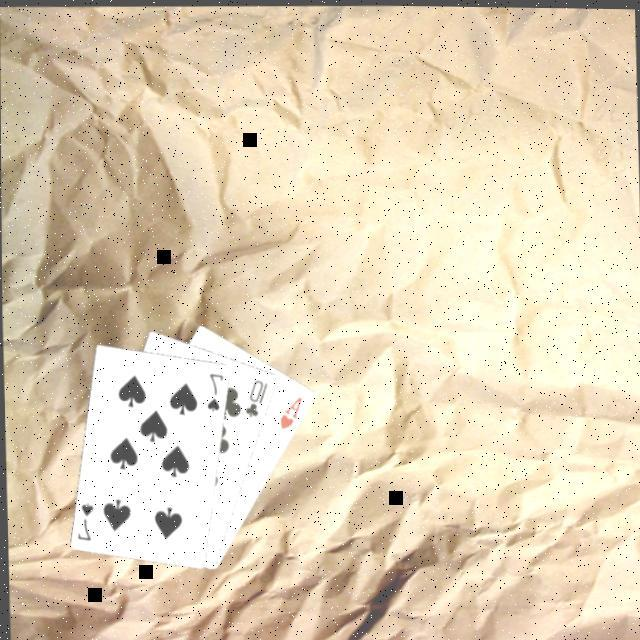10C: (243, 376, 272, 420)
7S: (73, 498, 98, 543), (204, 369, 228, 414)
AH: (276, 391, 307, 432)
